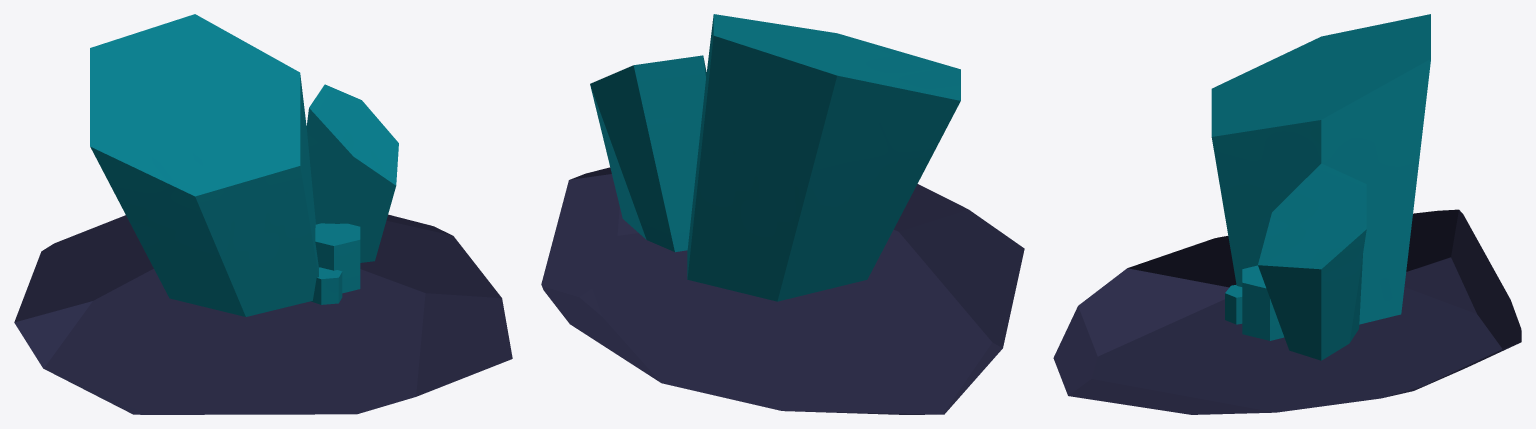
The picture shows the model from 3 angles, left to right: view 1: azimuth 30°, elevation 25°; view 2: azimuth 150°, elevation 25°; view 3: azimuth 270°, elevation 25°; orthographic projection. The views are drawn at different scales.
Visible parts, largest first — view 1: Nó 5; view 2: Nó 5; view 3: Nó 5.
Part boxes in pixels (x1,y1,x2,y2): Nó 5: [14, 14, 512, 414]; Nó 5: [541, 14, 1024, 414]; Nó 5: [1053, 14, 1521, 414].
Size of the model in its own units: 212 by 164 by 225.
2 materials, 1 textured.
